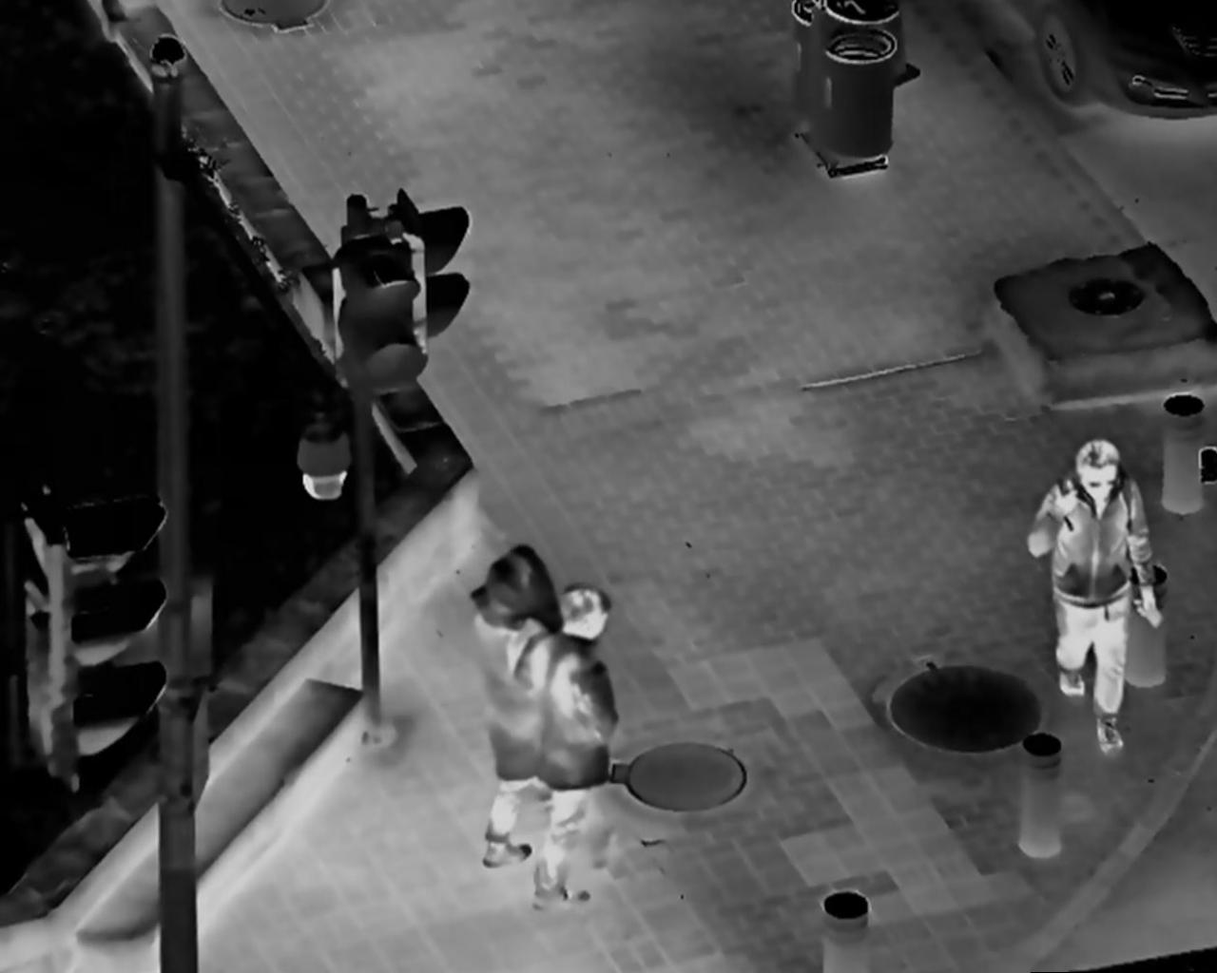person: (1033, 435, 1171, 753), (459, 545, 574, 865), (536, 582, 624, 911)
